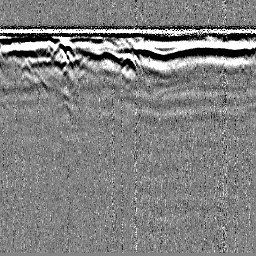cavity: (120, 50, 137, 71)
